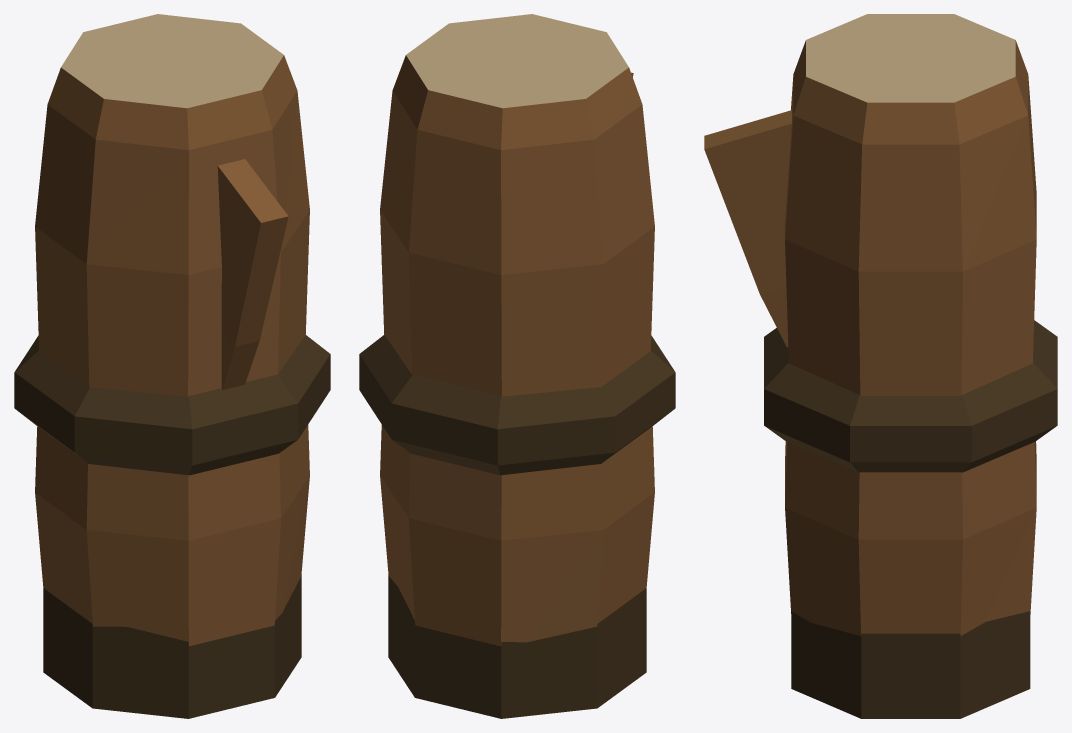
Rendered from hide.gltf.
3 views of the same model, side by side, from view 1: azimuth 30°, elevation 25°; view 2: azimuth 150°, elevation 25°; view 3: azimuth 270°, elevation 25° (orthographic).
Parts seen in each view (by area): view 1: hide; view 2: hide; view 3: hide.
Part boxes in pixels (box(x1,y1,x2,y2)): hide: box(14, 14, 330, 718); hide: box(359, 14, 675, 718); hide: box(704, 14, 1057, 718).
Size of the model in its own units: 0.1115 by 0.2516 by 0.1323.
